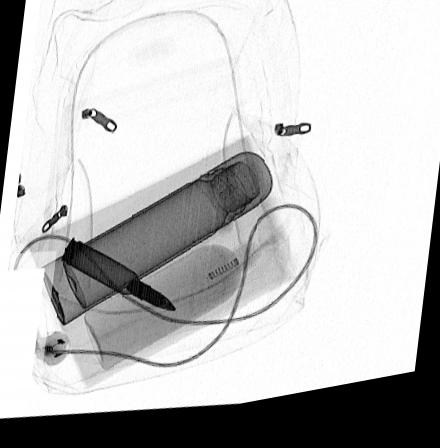Bullet: (59, 241, 176, 319)
